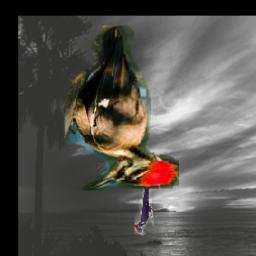Woodpecker: (62, 26, 179, 192), (134, 179, 153, 235)
